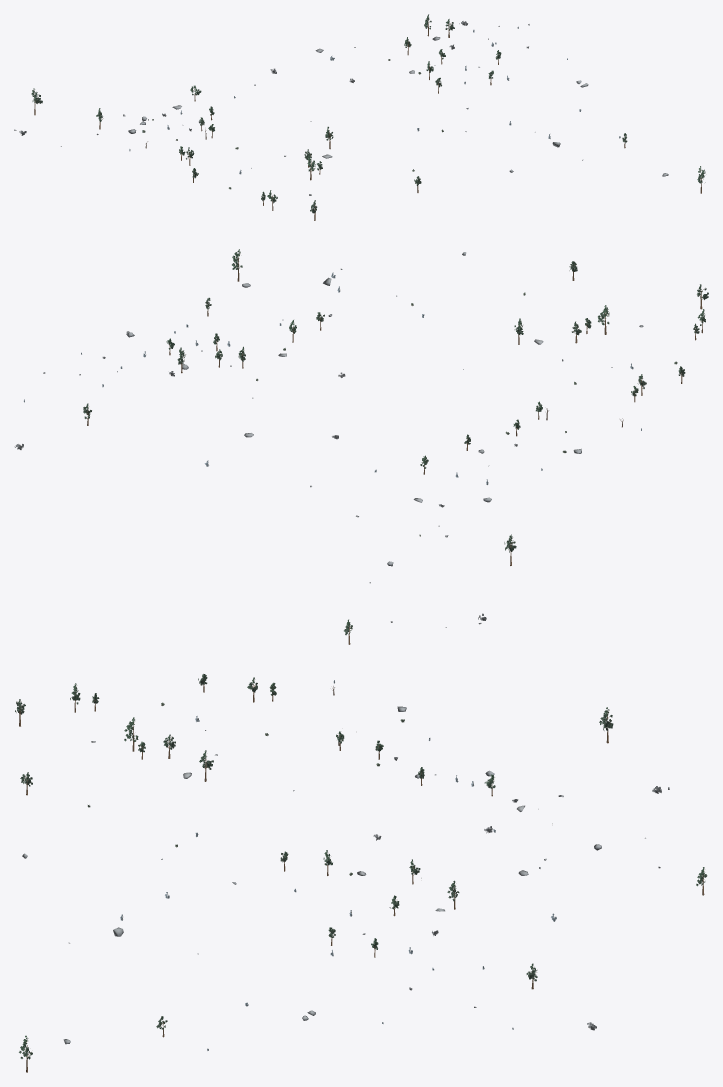
File: frost_land_scatter_c16_09.glb
3 views of the same model, one above another, from view 1: azimuth 30°, elevation 25°; view 2: azimuth 150°, elevation 25°; view 3: azimuth 270°, elevation 25° (orthographic). The views are drawn at different scales.
Parts seen in each view (by area): view 1: frost_land_scatter_c16_09; view 2: frost_land_scatter_c16_09; view 3: frost_land_scatter_c16_09.
Boxes of the visible parts, bbox=[...] form: frost_land_scatter_c16_09: bbox=[14, 14, 705, 220]; frost_land_scatter_c16_09: bbox=[14, 249, 708, 644]; frost_land_scatter_c16_09: bbox=[15, 674, 707, 1072].
Size of the model in its own units: 258 by 70.45 by 253.
